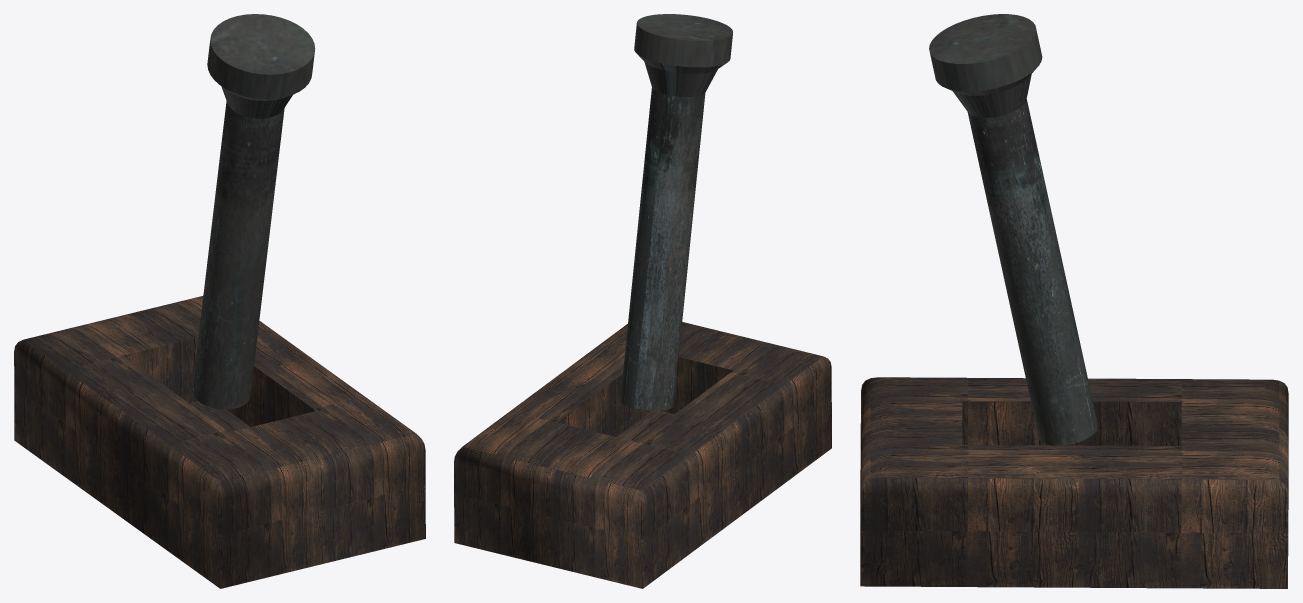
Rendered from Lever.FBX.
The picture shows the model from 3 angles, left to right: view 1: azimuth 30°, elevation 25°; view 2: azimuth 150°, elevation 25°; view 3: azimuth 270°, elevation 25°; orthographic projection. The views are drawn at different scales.
Visible parts, largest first — view 1: Box001, Cylinder001; view 2: Box001, Cylinder001; view 3: Box001, Cylinder001.
Part boxes in pixels (x1=…): Box001: x1=14, y1=296, x2=425, y2=588; Cylinder001: x1=192, y1=14, x2=315, y2=409; Box001: x1=454, y1=322, x2=831, y2=588; Cylinder001: x1=620, y1=14, x2=732, y2=410; Box001: x1=860, y1=377, x2=1288, y2=588; Cylinder001: x1=929, y1=14, x2=1098, y2=445.
Size of the model in its own units: 22.52 by 51.17 by 39.18.
Materials: 2 (2 with a texture image).
